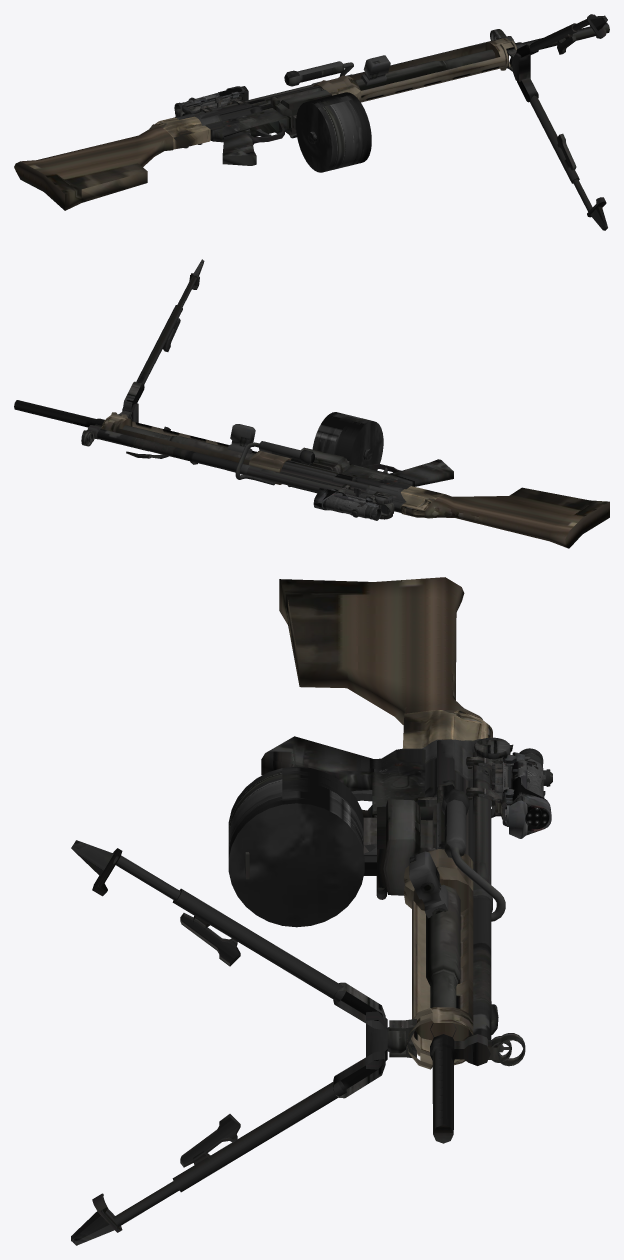
File: t5_weapon_hk21_viewmodel.glb
3 views of the same model, one above another, from view 1: azimuth 30°, elevation 25°; view 2: azimuth 150°, elevation 25°; view 3: azimuth 270°, elevation 25° (orthographic). The views are drawn at different scales.
Visible parts, largest first — view 1: t5_weapon_hk21_viewmodel; view 2: t5_weapon_hk21_viewmodel; view 3: t5_weapon_hk21_viewmodel.
Part boxes in pixels (<box>): t5_weapon_hk21_viewmodel: <box>14,14,609,230</box>; t5_weapon_hk21_viewmodel: <box>14,259,609,548</box>; t5_weapon_hk21_viewmodel: <box>71,577,552,1245</box>.
Bounding box in the file's own units: 1.2 × 0.4201 × 0.4522.
Materials: 15 (14 with a texture image).
